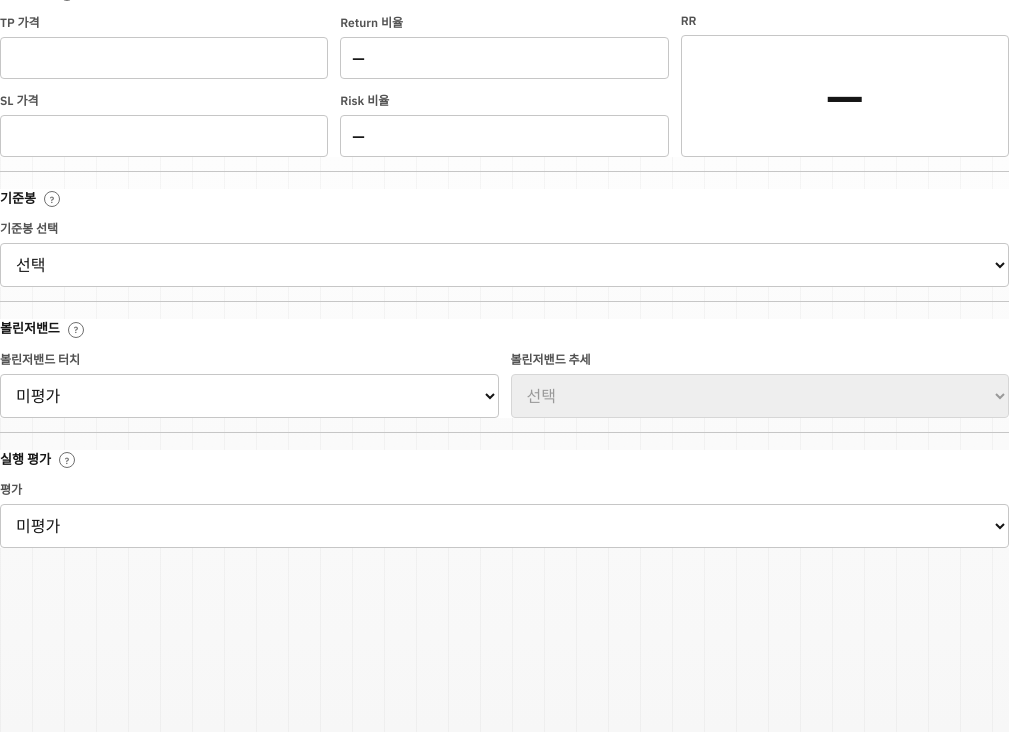
TradeAnalysisEditor › shows violation details only when a plan violation is selected
Expected: the field labelled "계획 외 추가 진입" is not shown
Select "계획 위반" in the dropdown labelled "평가" at (504, 526), box [0,504,1009,548]
(page scrolled)
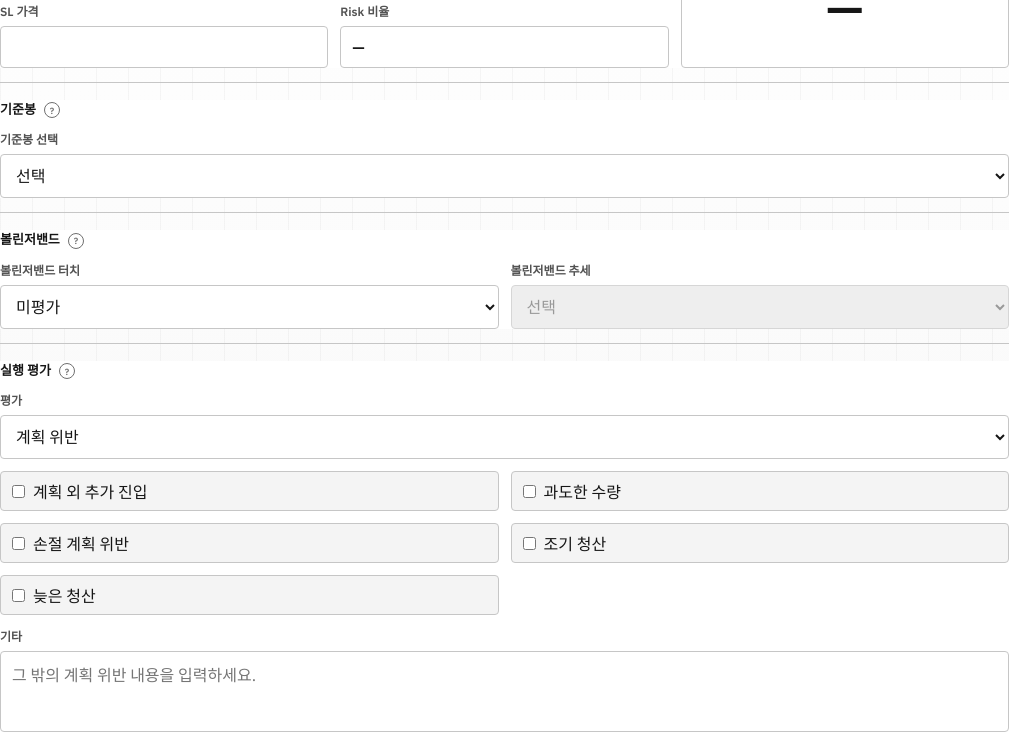
Expected: the checkbox labelled "계획 외 추가 진입" is shown, [12,484,25,498]
Expected: the checkbox labelled "손절 계획 위반" is shown, [12,536,25,550]
Expected: the text box with placeholder "그 밖의 계획 위반 내용을 입력하세요." is shown, [0,651,1009,731]
